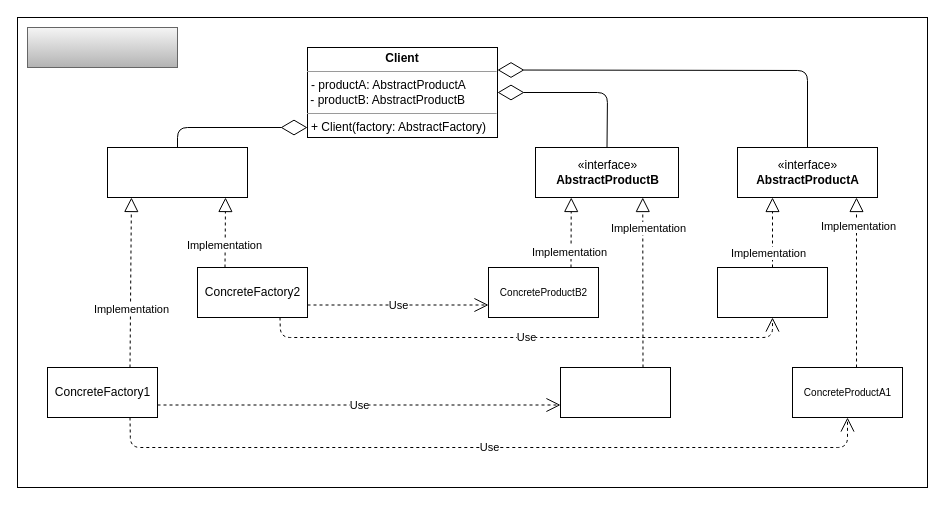
The diagram is 945 pixels wide and 505 high, and some of its shapes have lost their labels. The shapes that lost their labels are listed below. From the top down, each one's centre as x and y in pixels, then its label:
At point 102,47: "Abstract Factory".
At point 177,172: "«interface» AbstractFactory".
At point 772,292: "ConcreteProductA2".
At point 615,392: "ConcreteProductB1".
